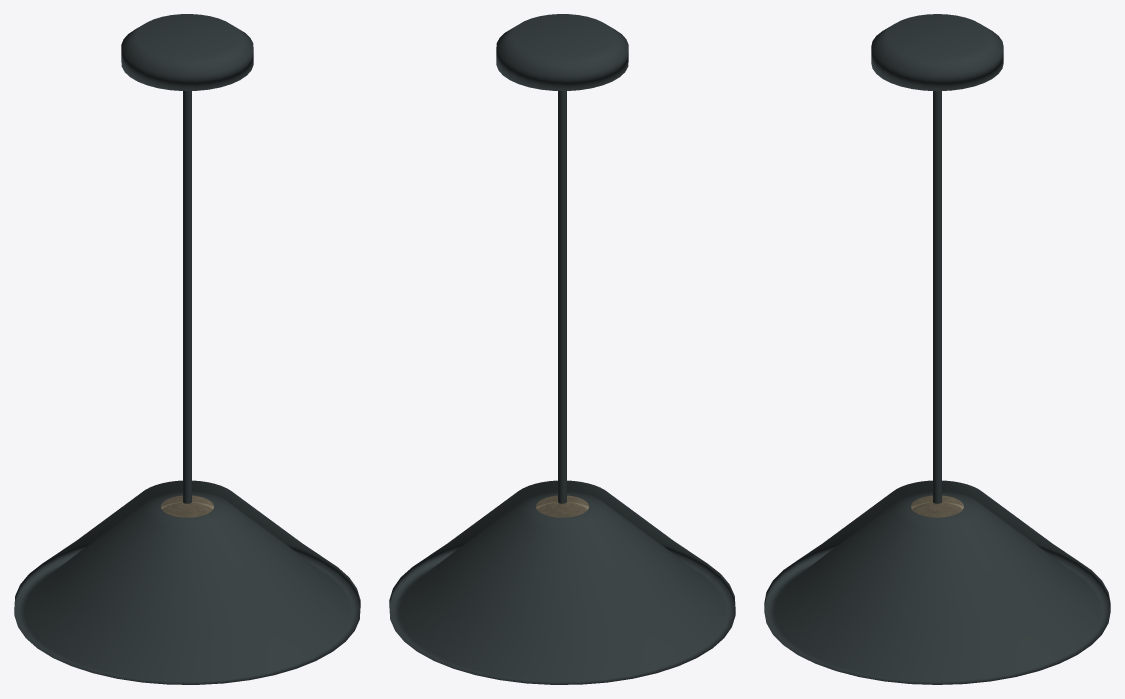
3 views of the same model, side by side, from view 1: azimuth 30°, elevation 25°; view 2: azimuth 150°, elevation 25°; view 3: azimuth 270°, elevation 25° (orthographic).
Visible parts, largest first — view 1: Mesh_iron, Mesh_ceramic; view 2: Mesh_iron, Mesh_ceramic; view 3: Mesh_iron, Mesh_ceramic.
Boxes of the visible parts, x1,y1,x2,y2 form: Mesh_iron: [14, 14, 360, 684]; Mesh_ceramic: [161, 495, 213, 517]; Mesh_iron: [389, 14, 735, 684]; Mesh_ceramic: [536, 495, 588, 517]; Mesh_iron: [764, 14, 1110, 684]; Mesh_ceramic: [911, 495, 963, 517].
Size of the model in its own units: 0.34 by 0.65 by 0.34.
3 materials, 1 textured.
